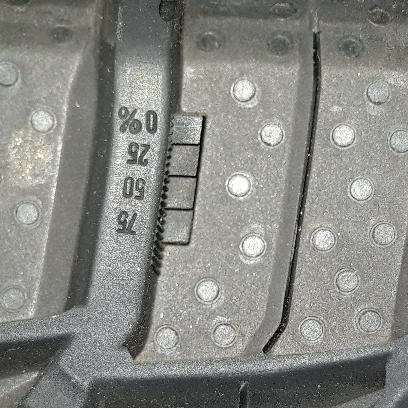temoin:100: (148, 107, 208, 274)
